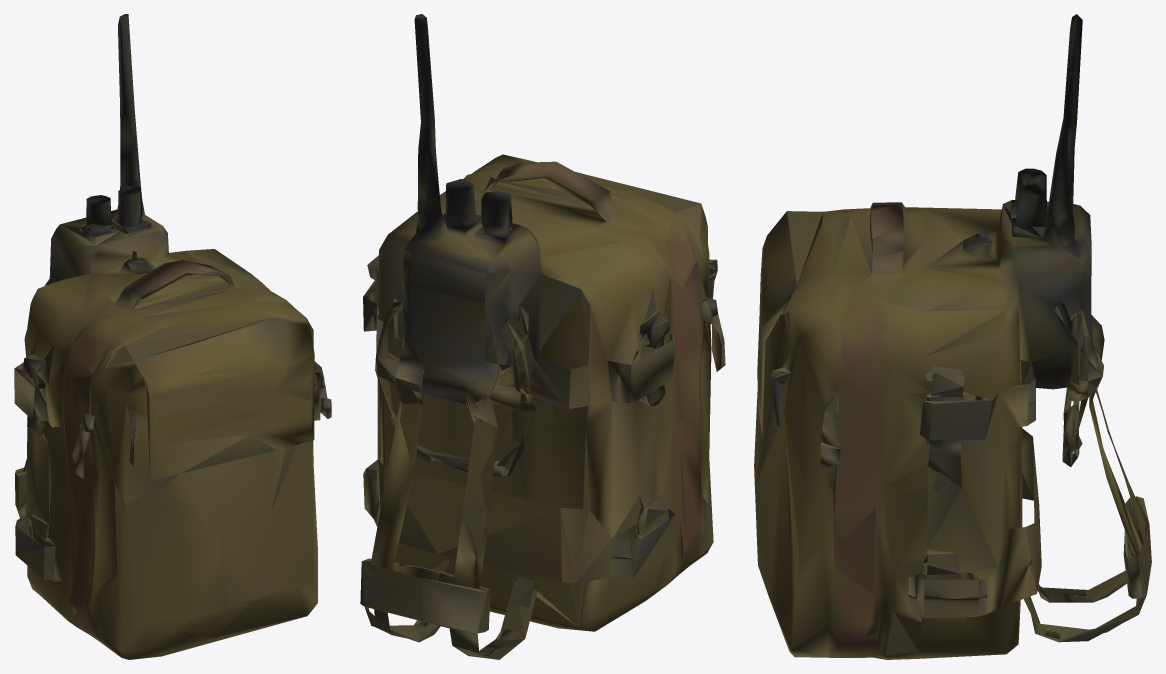
File: field-radio-pack.glb
3 views of the same model, side by side, from view 1: azimuth 30°, elevation 25°; view 2: azimuth 150°, elevation 25°; view 3: azimuth 270°, elevation 25° (orthographic). The views are drawn at different scales.
Visible parts, largest first — view 1: Mesh_0; view 2: Mesh_0; view 3: Mesh_0.
Part boxes in pixels (x1,y1,x2,y2): Mesh_0: (14,14,331,659); Mesh_0: (360,14,725,659); Mesh_0: (754,14,1151,659).
Size of the model in its own units: 0.2452 by 0.5 by 0.2912.
